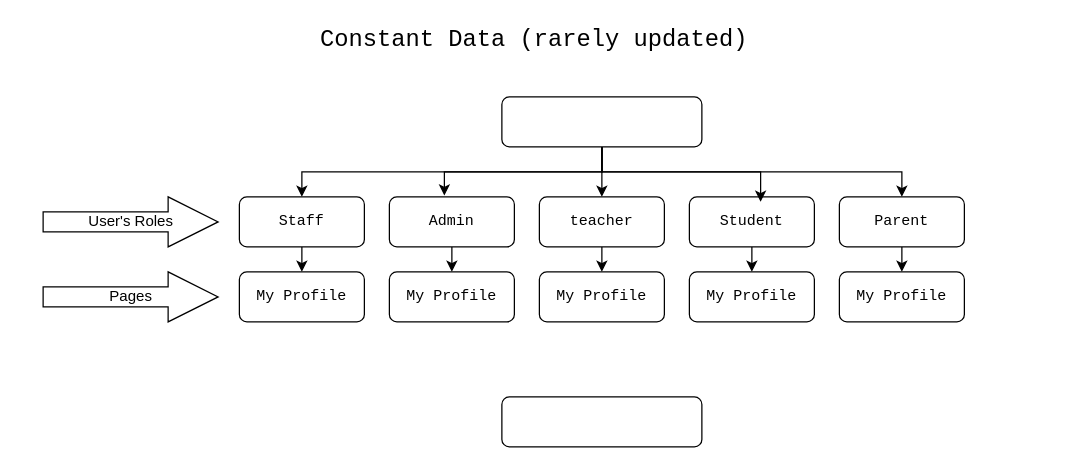
This 1068x469 diagram has some shape labels left out. Here are the shapes that lost their labels. From the top down, the centre of each, then its label:
(601,121): Profile Detais
(601,421): TimeTable
